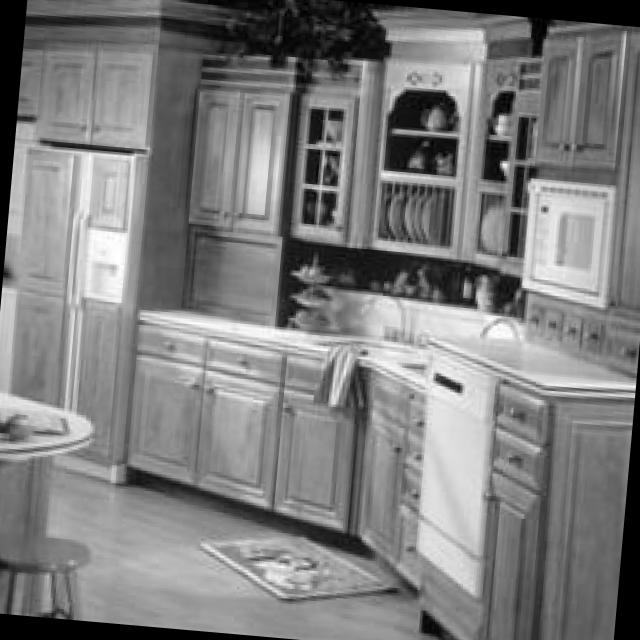book case: (0, 403, 72, 431)
bottle crop: (463, 262, 477, 301)
bowl -X: (325, 115, 345, 141)
cabinets: (183, 47, 542, 326), (127, 322, 426, 590), (526, 19, 640, 377), (483, 379, 635, 640), (22, 0, 162, 142)
counter bottom: (140, 304, 428, 387), (437, 333, 636, 385), (0, 390, 95, 457)
cup and saucer: (10, 412, 32, 440), (439, 150, 457, 171), (496, 109, 514, 128), (500, 154, 513, 176)
dish towels: (316, 342, 368, 405)
dishwasher: (417, 345, 501, 640)
fruit: (290, 247, 340, 329)
microwave oven: (527, 173, 618, 310)
plant -x: (228, 0, 378, 61)
plate food: (483, 201, 504, 248)
plates: (383, 186, 437, 239)
refrigerator: (8, 144, 149, 481)
rug -partially obscured-: (198, 530, 402, 600)
sink basin: (286, 327, 423, 355), (390, 352, 430, 374)
sink occluded: (377, 289, 427, 341), (482, 313, 522, 335)
statue: (417, 257, 438, 298)
stool crop: (0, 531, 94, 615)
teapot: (424, 102, 461, 126)
